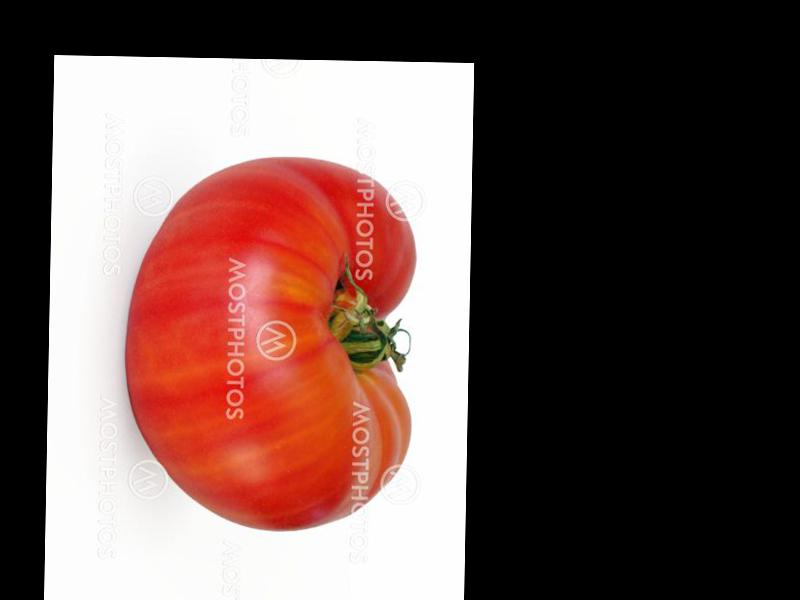Tomato: (123, 155, 418, 533)
